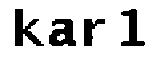1: (117, 6, 149, 48)
a: (47, 14, 76, 50)
k: (9, 8, 43, 52)
r: (77, 14, 107, 46)
